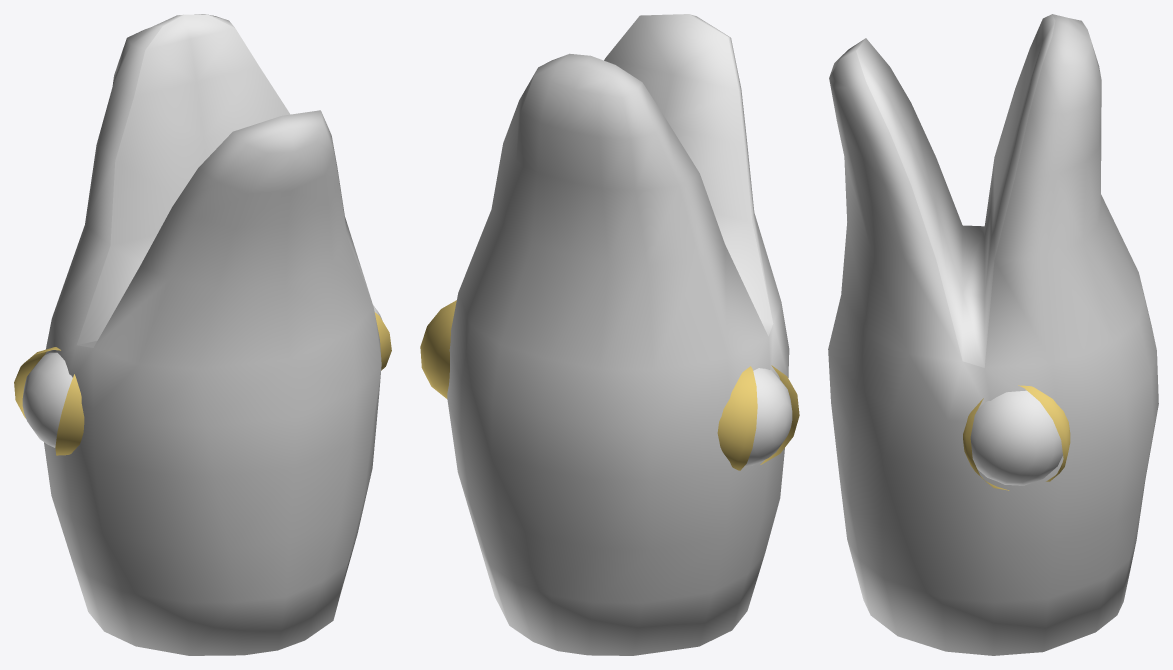
The model's file is SM-FlyingSnakeHead-Simplied.fbx.
3 renders of one model, left to right at view 1: azimuth 30°, elevation 25°; view 2: azimuth 150°, elevation 25°; view 3: azimuth 270°, elevation 25°, orthographic. The views are drawn at different scales.
Parts seen in each view (by area): view 1: Snek.Head.Simplified; view 2: Snek.Head.Simplified; view 3: Snek.Head.Simplified.
Part boxes in pixels (x1,y1,x2,y2): Snek.Head.Simplified: (14, 14, 391, 655); Snek.Head.Simplified: (420, 14, 799, 655); Snek.Head.Simplified: (828, 14, 1158, 655).
Bounding box in the file's own units: 111 × 172 × 88.95.
